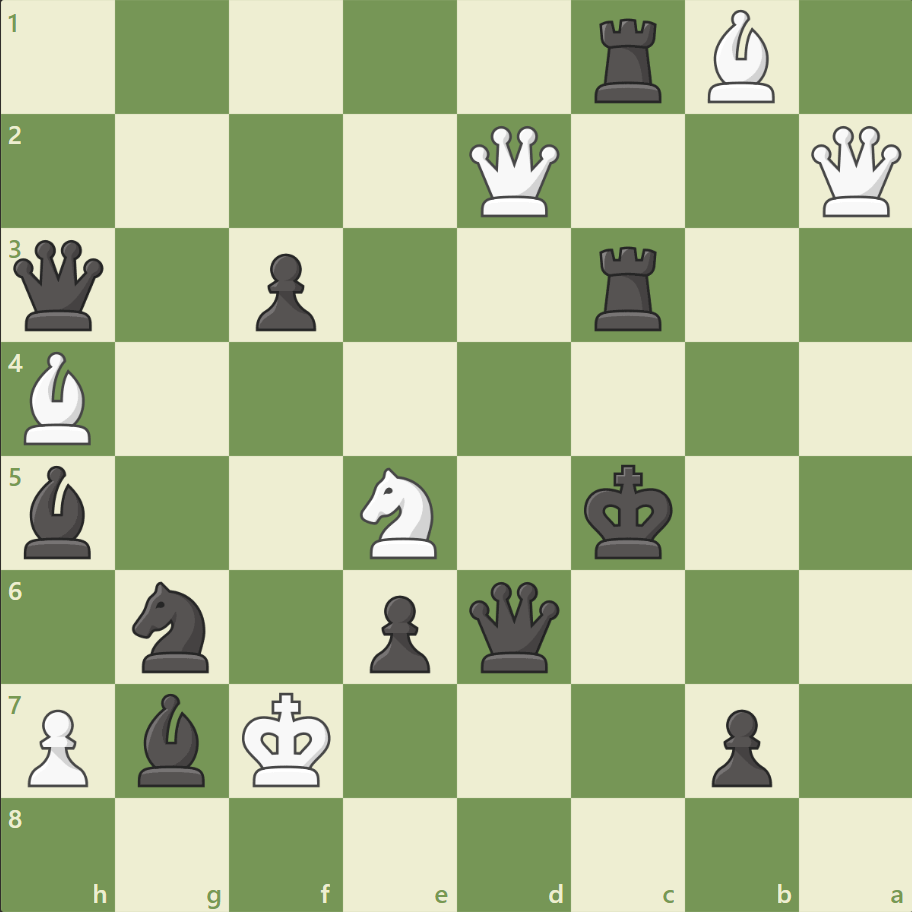B: (698, 6, 782, 109), (17, 347, 101, 449)
K: (238, 685, 338, 793)
N: (351, 461, 449, 564)
P: (20, 700, 95, 791)
Q: (805, 122, 904, 222), (464, 122, 563, 222)
b: (131, 687, 215, 790), (17, 460, 101, 563)
k: (579, 458, 679, 566)
n: (124, 575, 222, 677)
p: (701, 700, 776, 791), (247, 246, 322, 337), (361, 586, 435, 677)
q: (464, 576, 563, 676), (10, 236, 109, 335)
r: (587, 239, 670, 336), (587, 12, 670, 109)
